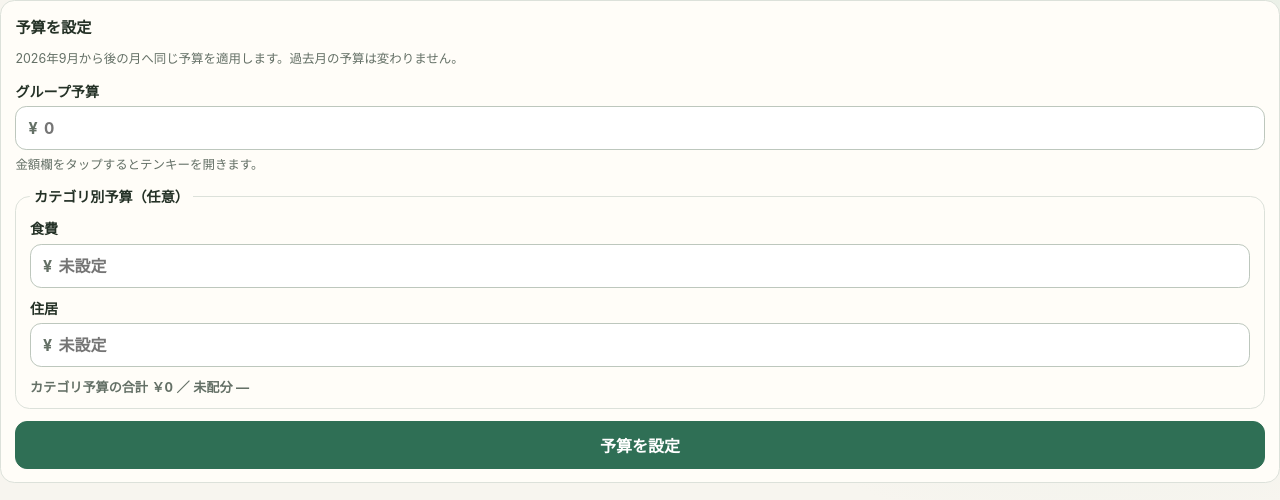
Test: BudgetEditor › 入力中に合計と未配分額を表示する (AC-BUD-010-3)
Step 1. Type "300000" into the field labelled "グループ予算" → (648, 128), box [44,107,1252,149]
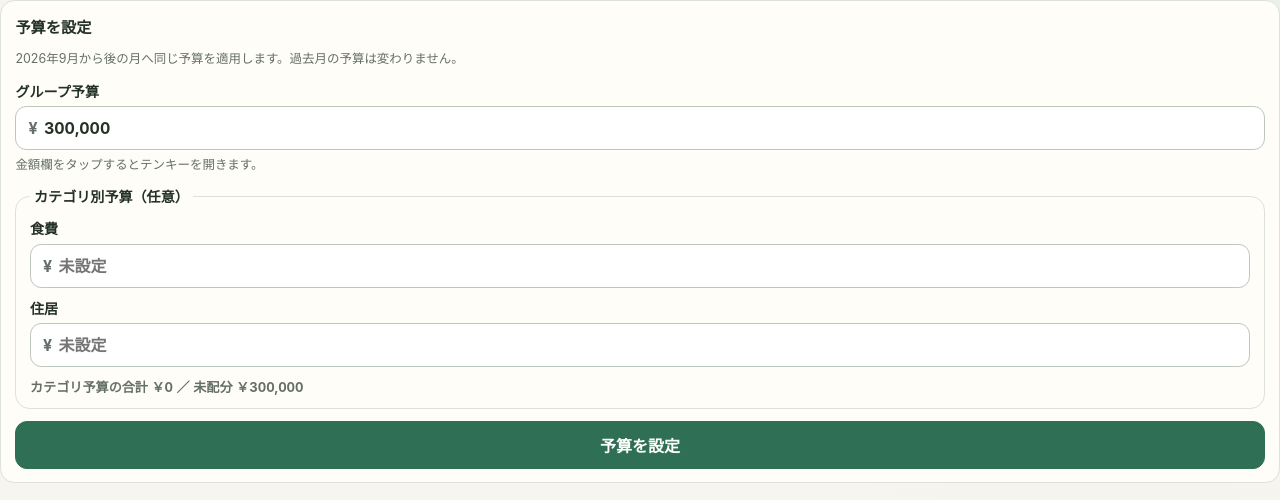
Step 2. Type "60000" into the field labelled "食費" → (648, 266), box [58,245,1237,287]
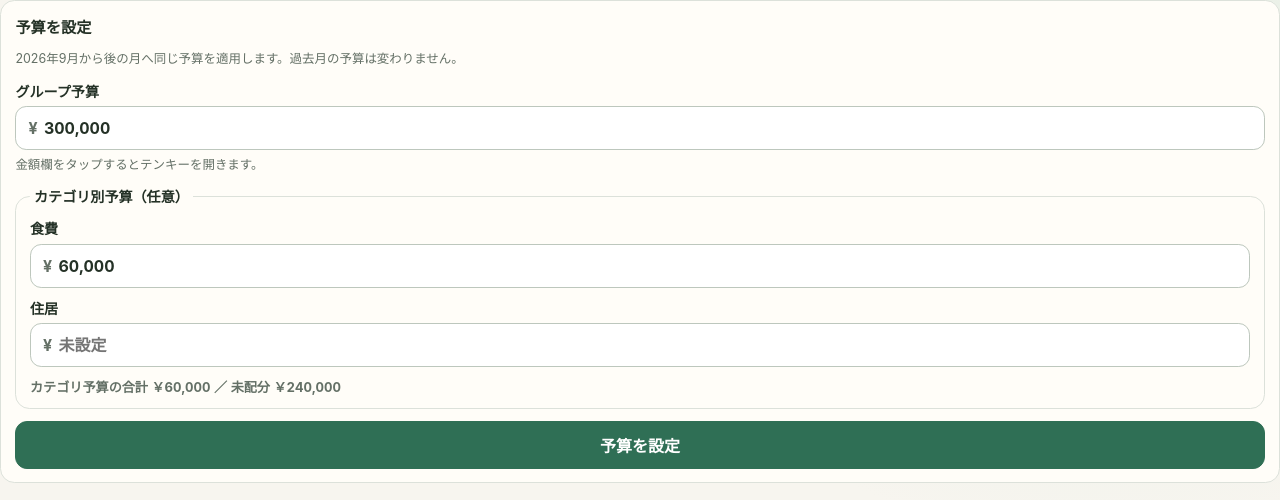
Step 3. Type "100000" into the field labelled "住居" → (648, 345), box [58,324,1237,366]
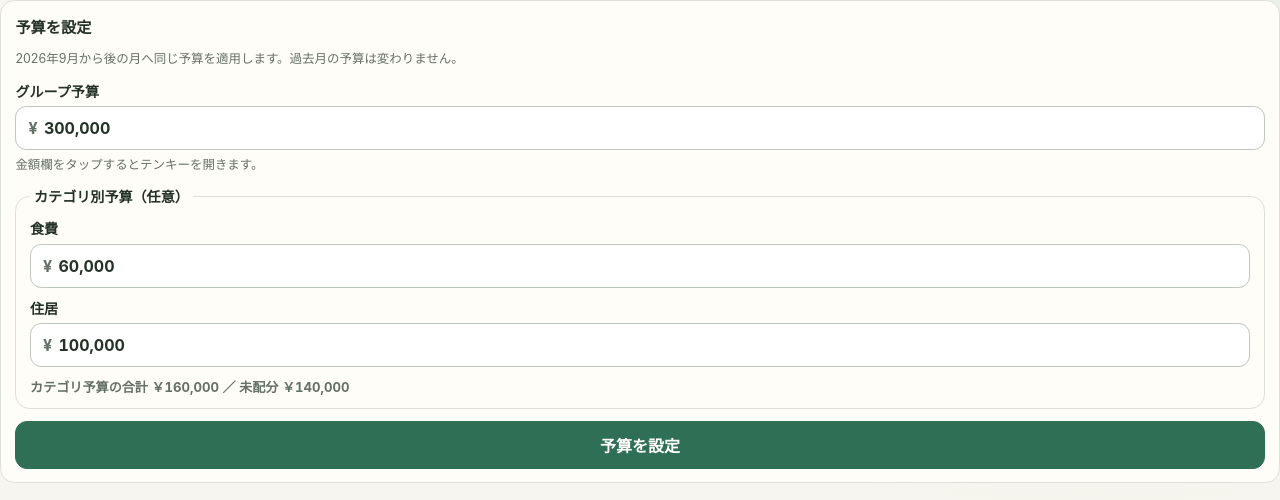
expect the button "予算を設定" is enabled: met, box [15,421,1265,469]
expect the text "カテゴリ予算の合計 ￥160,000 ／ 未配分 ￥140,000" is shown: met, box [30,379,350,395]
